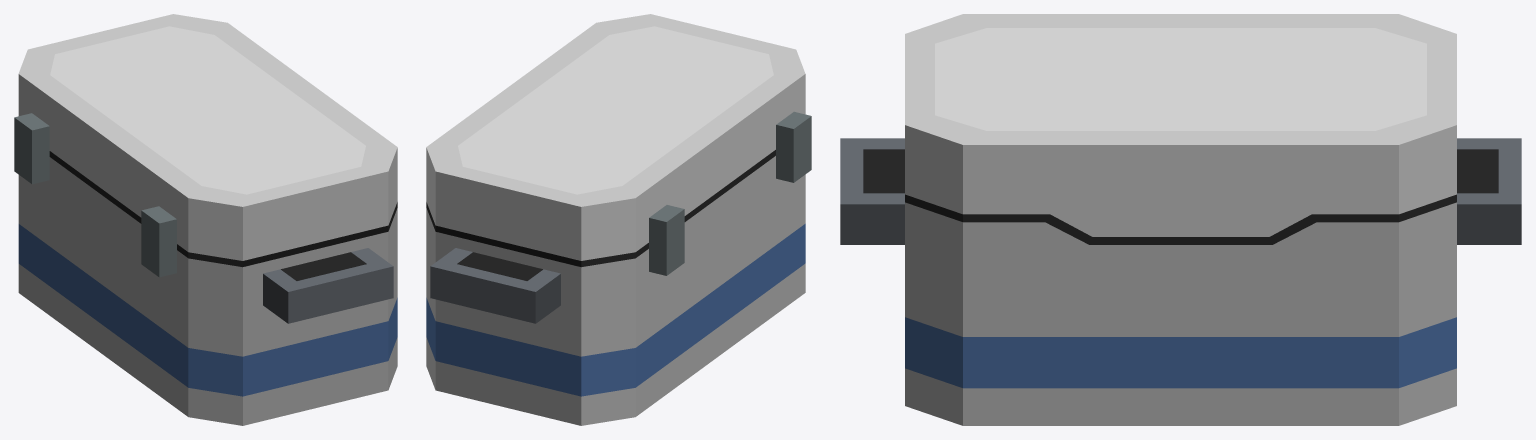
The model's file is SM_Prop_Crate_01.fbx.
3 renders of one model, left to right at view 1: azimuth 30°, elevation 25°; view 2: azimuth 150°, elevation 25°; view 3: azimuth 270°, elevation 25°, orthographic. The views are drawn at different scales.
Visible parts, largest first — view 1: SM_Prop_Crate_01; view 2: SM_Prop_Crate_01; view 3: SM_Prop_Crate_01.
Boxes of the visible parts, bbox=[...] form: SM_Prop_Crate_01: bbox=[14, 14, 397, 425]; SM_Prop_Crate_01: bbox=[426, 14, 811, 425]; SM_Prop_Crate_01: bbox=[840, 14, 1521, 425].
Size of the model in its own units: 1.31 by 1.21 by 2.66.
